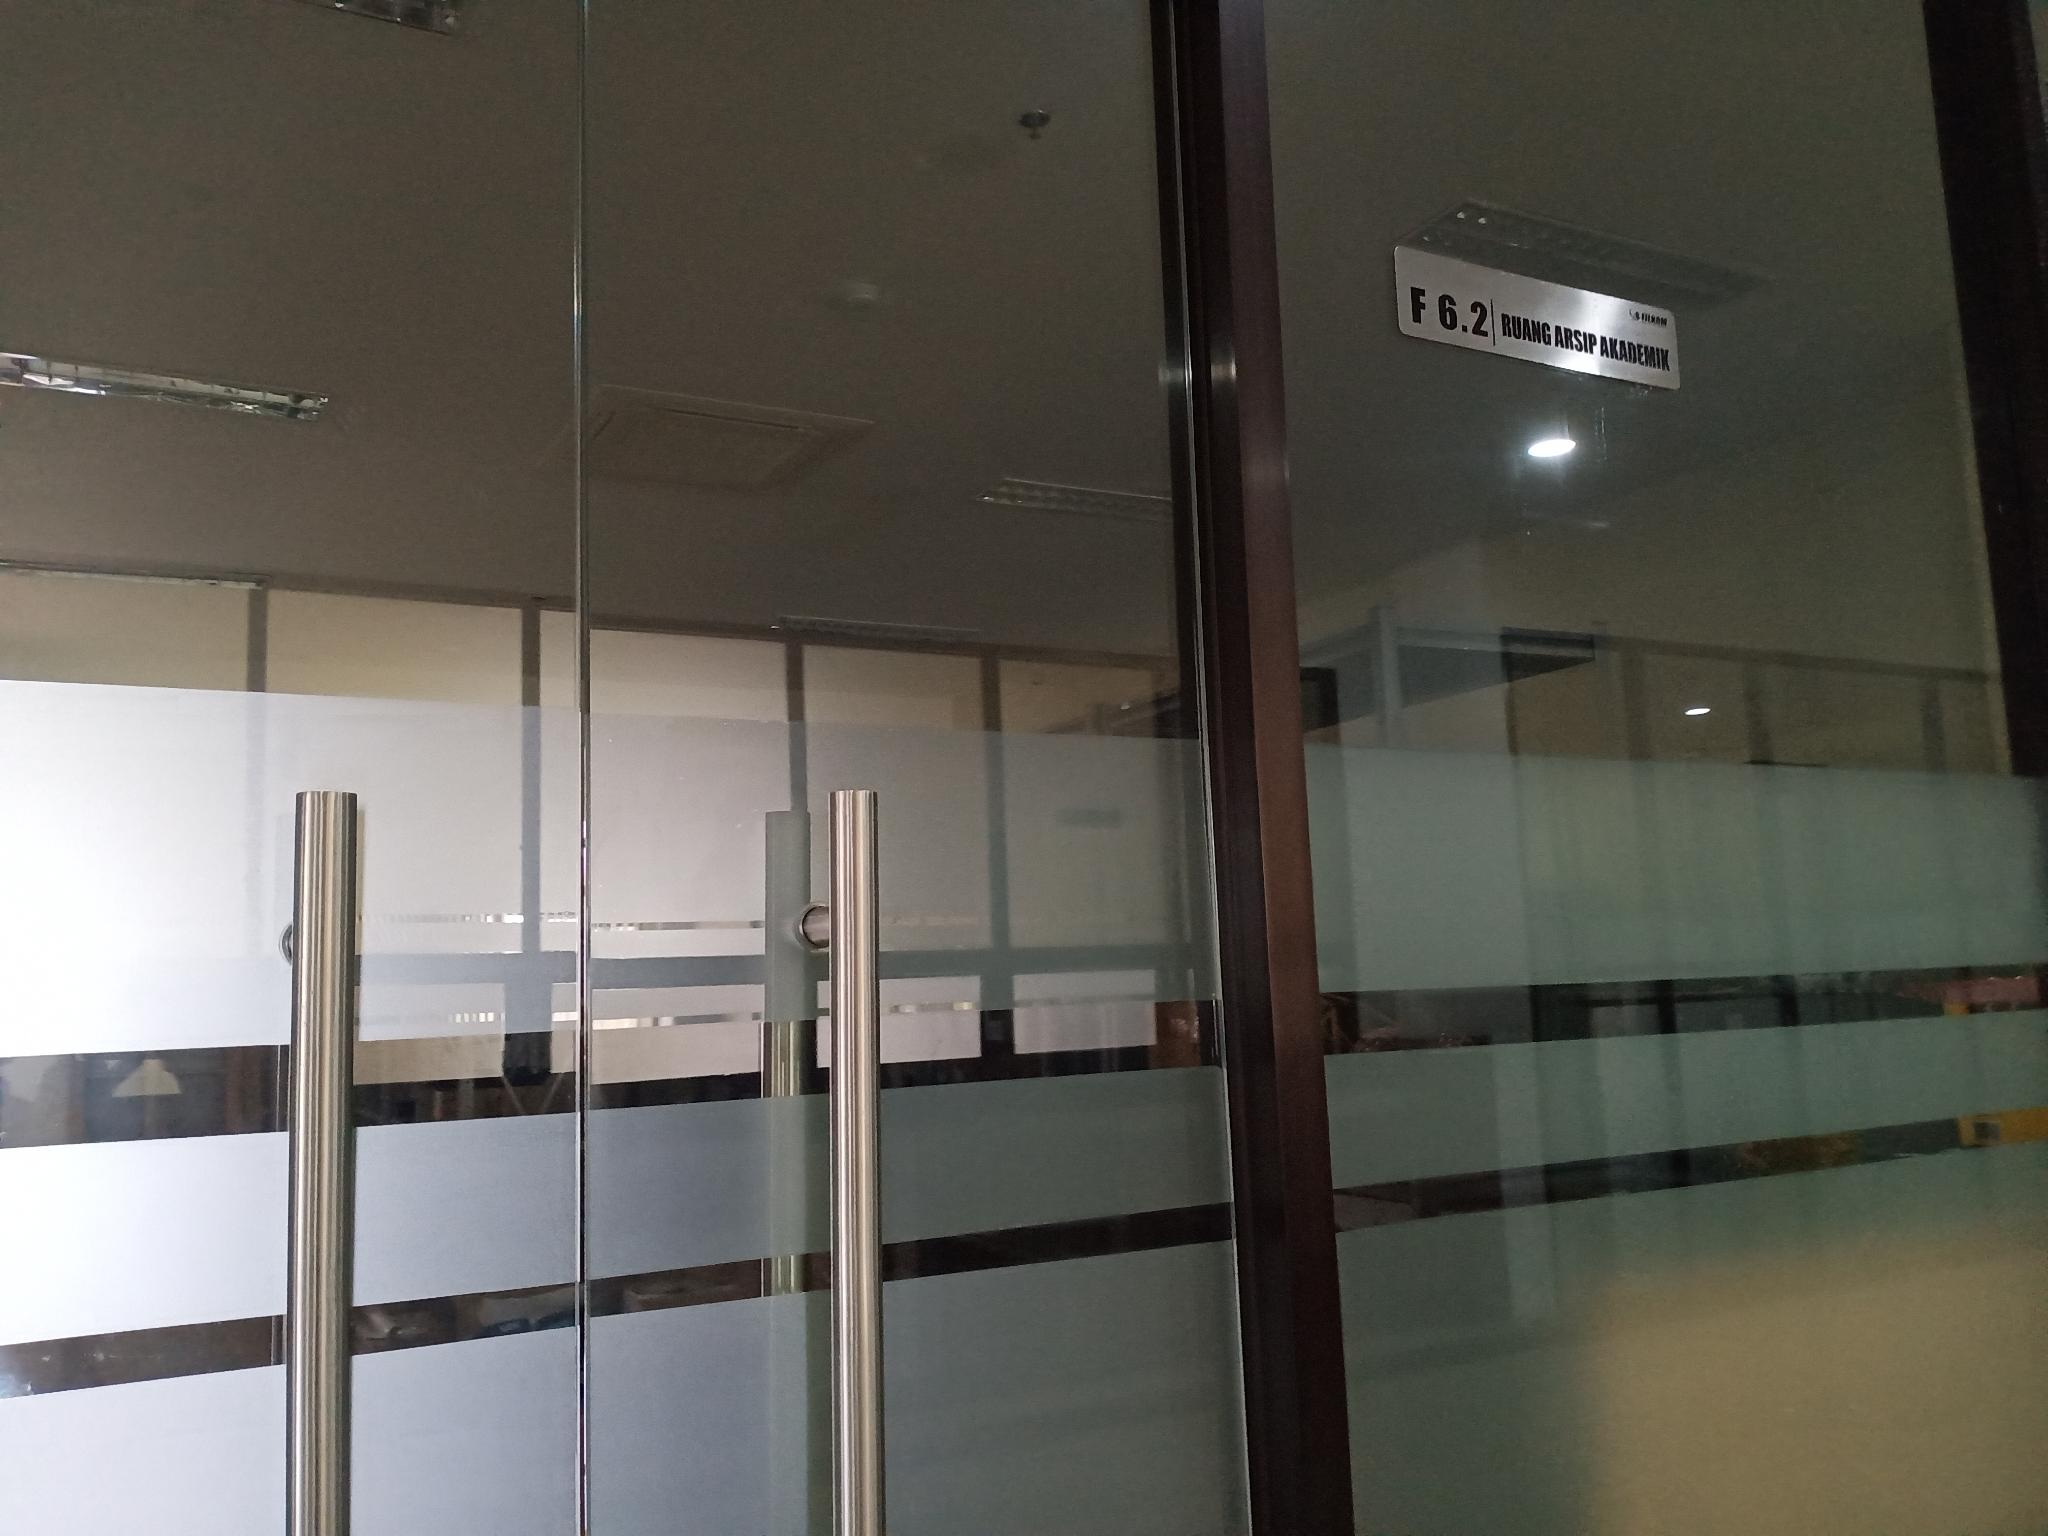plate: (1393, 244, 1682, 392)
